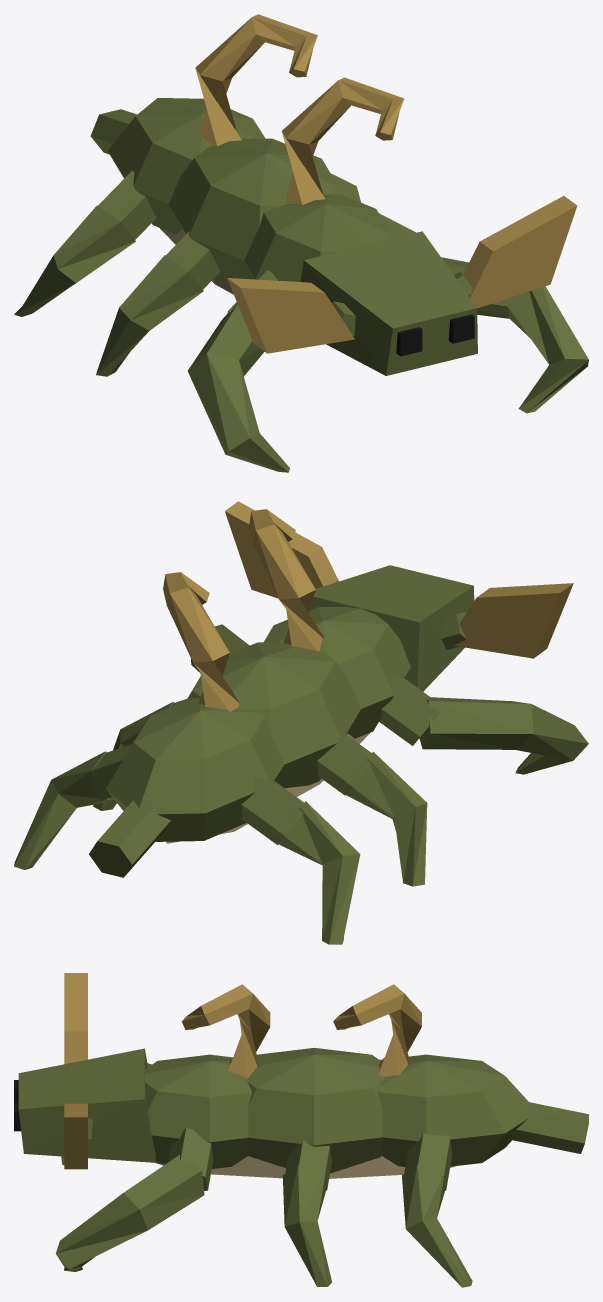
The model's file is vinchew.glb.
The picture shows the model from 3 angles, top to bottom: view 1: azimuth 30°, elevation 25°; view 2: azimuth 150°, elevation 25°; view 3: azimuth 270°, elevation 25°; orthographic projection. The views are drawn at different scales.
Parts seen in each view (by area): view 1: Vinchew; view 2: Vinchew; view 3: Vinchew.
Part boxes in pixels (x1,y1,x2,y2): Vinchew: (14,14,588,472); Vinchew: (14,501,588,944); Vinchew: (14,973,588,1287).
Bounding box in the file's own units: 0.68 × 0.5 × 1.06.
